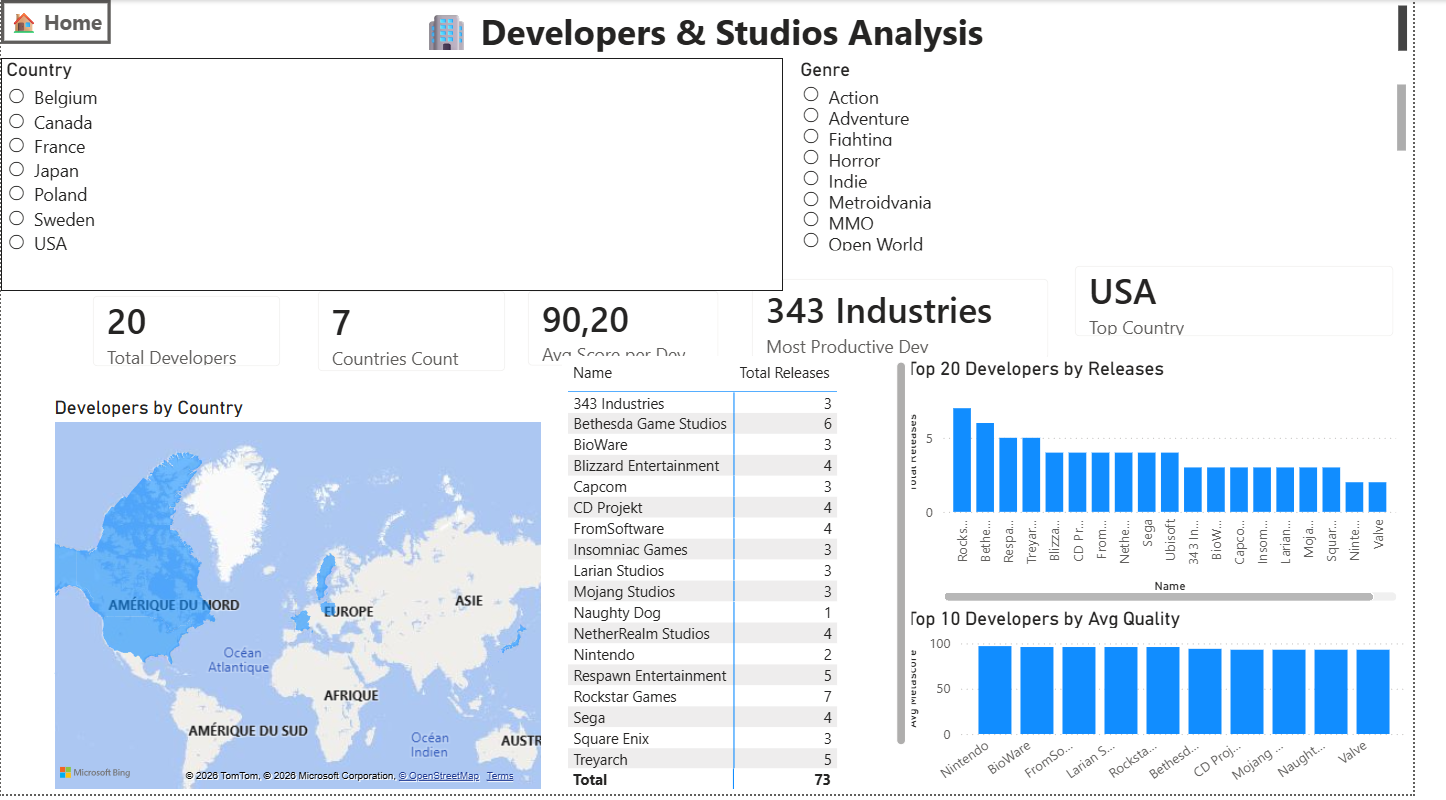

The page's visual inventory and layout, read from the dashboard file:
{"tool":"powerbi","page":{"name":"Developers Analysis","canvas":[1280,720],"ordinal":3},"visuals":[{"type":"textbox","box":[0,0,1280,52.2],"z":0},{"type":"cardVisual","fields":{"Data":["_Measures.Total Developers"]},"box":[65.9,251.1,204.5,98.8],"z":1000},{"type":"cardVisual","fields":{"Data":["_Measures.Countries Count"]},"box":[270.3,247,204.5,107],"z":2000},{"type":"cardVisual","fields":{"Data":["_Measures.Avg Score per Dev"]},"box":[461.1,247,207.2,102.9],"z":3000},{"type":"cardVisual","fields":{"Data":["_Measures.Most Productive Dev"]},"box":[664.2,236,303.3,107],"z":4000},{"type":"cardVisual","fields":{"Data":["_Measures.Top Country"]},"box":[956.4,223.7,323.8,98.8],"z":5000},{"type":"filledMap","title":"Developers by Country","fields":{"Category":["Developers.Country"]},"box":[43.9,359.5,451.5,360.9],"z":6000},{"type":"columnChart","title":"Top 20 Developers by Releases","fields":{"Category":["Developers.Name"],"Y":["_Measures.Total Releases"]},"box":[816.5,323.8,454.2,226.4],"z":7000},{"type":"clusteredColumnChart","title":"Top 10 Developers by Avg Quality","fields":{"Category":["Developers.Name"],"Y":["_Measures.Avg Metascore"]},"box":[816.5,550.3,463.8,170.2],"z":8000},{"type":"pivotTable","fields":{"Rows":["Developers.Country","Developers.Name","Genres.Name","Games.Title"],"Values":["_Measures.Total Releases"]},"box":[509.1,322.5,317,397.9],"z":9000},{"type":"listSlicer","fields":{"Values":["Developers.Country"]},"box":[0,52.1,709.4,211.3],"z":10000},{"type":"listSlicer","title":"Genre","fields":{"Values":["Genres.Name"]},"box":[720.4,52.1,559.9,183.9],"z":11000},{"type":"actionButton","box":[0,0,99.5,39.8],"z":11001}]}

Visuals, with their boxes in screenshot pixels (x1, y1, x2, y2), scaled from the page's 1280x720 canvas onto the 1446x800 screenshot:
textbox: bbox=[0, 0, 1445, 58]
cardVisual - _Measures.Total Developers: bbox=[74, 279, 305, 389]
cardVisual - _Measures.Countries Count: bbox=[305, 274, 536, 393]
cardVisual - _Measures.Avg Score per Dev: bbox=[521, 274, 755, 389]
cardVisual - _Measures.Most Productive Dev: bbox=[750, 262, 1093, 381]
cardVisual - _Measures.Top Country: bbox=[1080, 249, 1445, 358]
"Developers by Country" filledMap: bbox=[50, 399, 560, 799]
"Top 20 Developers by Releases" columnChart: bbox=[922, 360, 1435, 611]
"Top 10 Developers by Avg Quality" clusteredColumnChart: bbox=[922, 611, 1445, 799]
pivotTable - Developers.Country x Developers.Name: bbox=[575, 358, 933, 799]
listSlicer - Developers.Country: bbox=[0, 58, 801, 293]
"Genre" listSlicer: bbox=[814, 58, 1445, 262]
actionButton: bbox=[0, 0, 112, 44]
